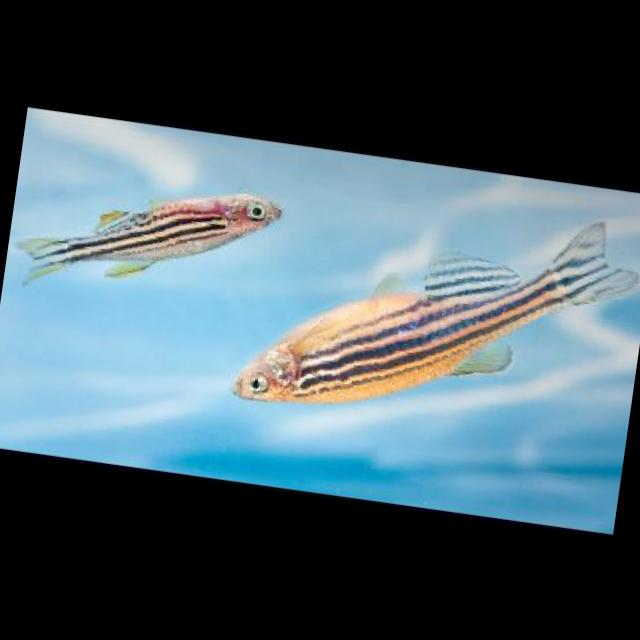ZebraFish: (229, 173, 640, 453), (8, 164, 286, 322)
